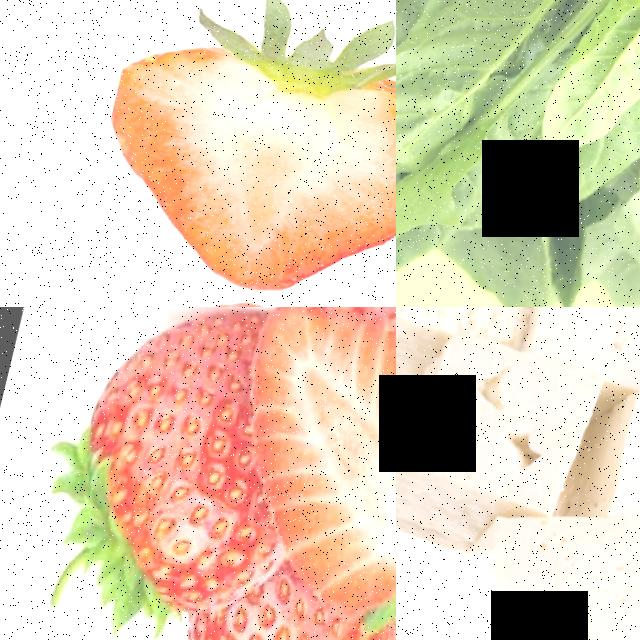spinach: (396, 0, 552, 218), (526, 0, 640, 180), (396, 155, 484, 307)
strawberry: (75, 0, 396, 307), (41, 307, 262, 636), (268, 307, 396, 640), (169, 599, 396, 640)
tofu: (396, 318, 594, 579), (423, 484, 640, 640), (511, 307, 640, 401)
